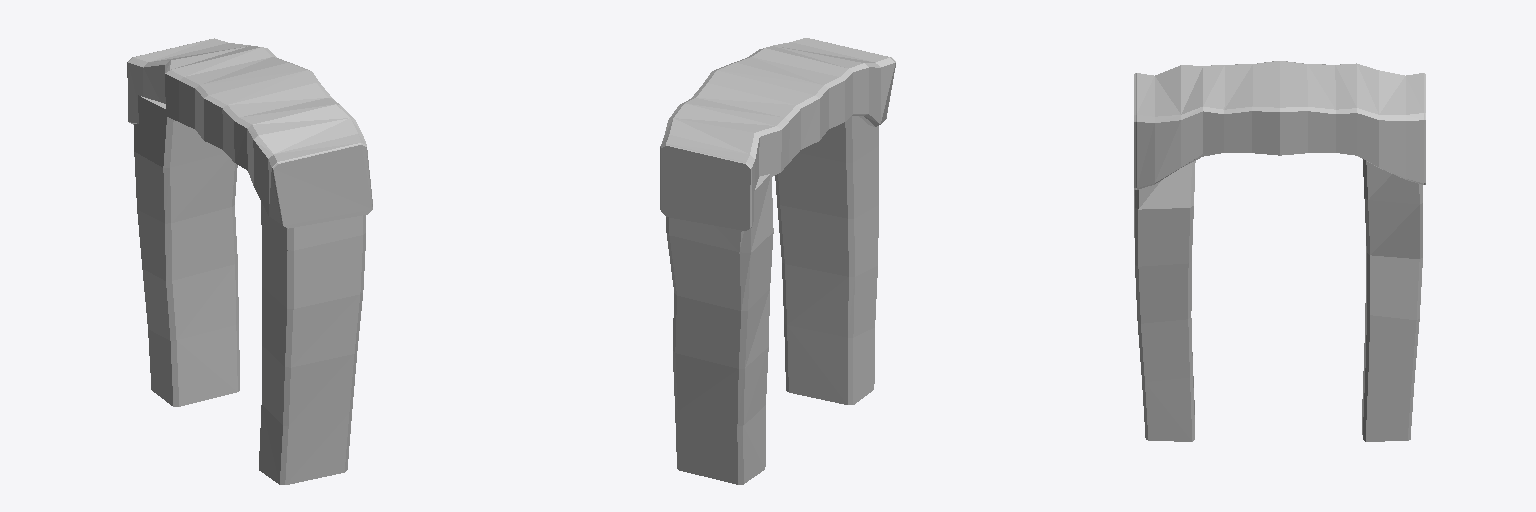
File: Batente.obj
3 renders of one model, left to right at view 1: azimuth 30°, elevation 25°; view 2: azimuth 150°, elevation 25°; view 3: azimuth 270°, elevation 25°, orthographic.
Parts seen in each view (by area): view 1: dvere; view 2: dvere; view 3: dvere.
Boxes of the visible parts, <box> form: dvere: <box>127,38,372,484</box>; dvere: <box>660,38,895,484</box>; dvere: <box>1134,61,1425,441</box>.
Bounding box in the file's own units: 0.0067 × 0.0197 × 0.015.